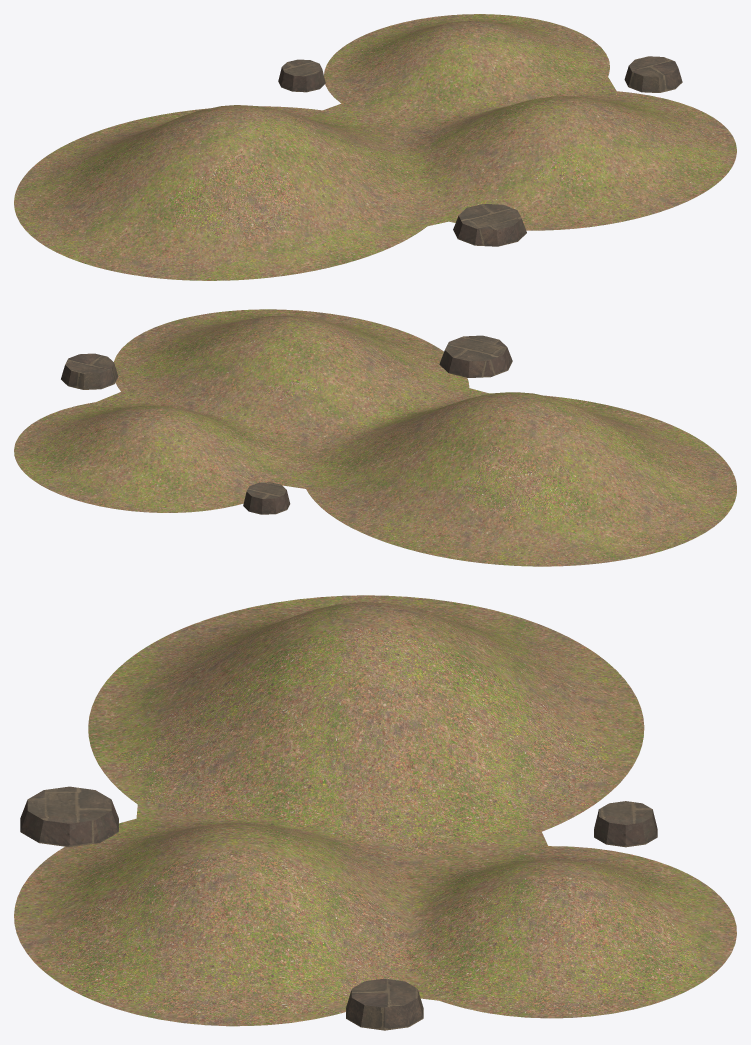
File: 03 Rolling Mounts.obj
3 views of the same model, one above another, from view 1: azimuth 30°, elevation 25°; view 2: azimuth 150°, elevation 25°; view 3: azimuth 270°, elevation 25° (orthographic). The views are drawn at different scales.
Visible parts, largest first — view 1: SiteA_RollingMounds_turf_mounds, SiteA_RollingMounds_stepping_stones; view 2: SiteA_RollingMounds_turf_mounds, SiteA_RollingMounds_stepping_stones; view 3: SiteA_RollingMounds_turf_mounds, SiteA_RollingMounds_stepping_stones.
Boxes of the visible parts, x1,y1,x2,y2 form: SiteA_RollingMounds_turf_mounds: (14,14,736,280); SiteA_RollingMounds_stepping_stones: (278,56,682,246); SiteA_RollingMounds_turf_mounds: (14,309,736,566); SiteA_RollingMounds_stepping_stones: (61,335,512,514); SiteA_RollingMounds_turf_mounds: (14,595,736,1026); SiteA_RollingMounds_stepping_stones: (20,786,657,1030).
Size of the model in its own units: 5.62 by 0.6495 by 3.9.
Materials: 2 (2 with a texture image).
